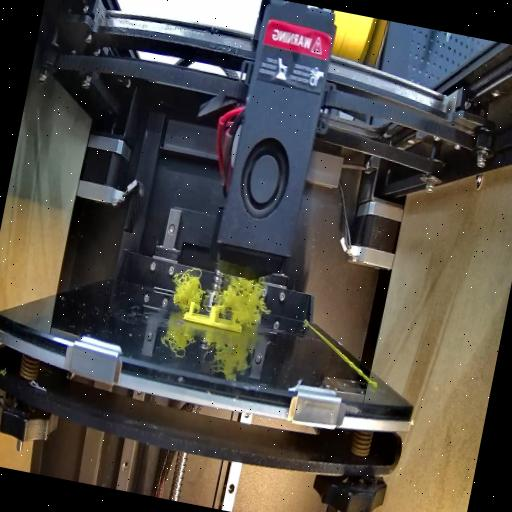spaghetti: (216, 274, 274, 326), (168, 260, 212, 316)
